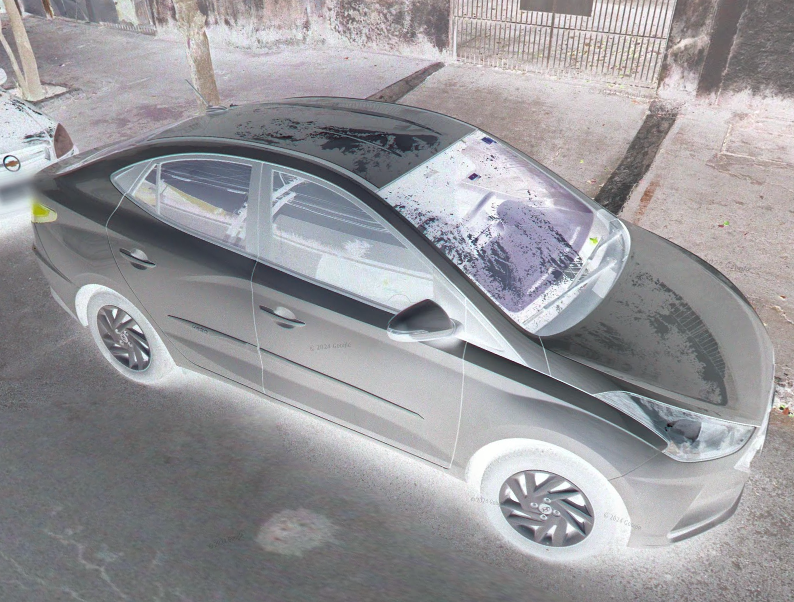car: (30, 94, 778, 559)
